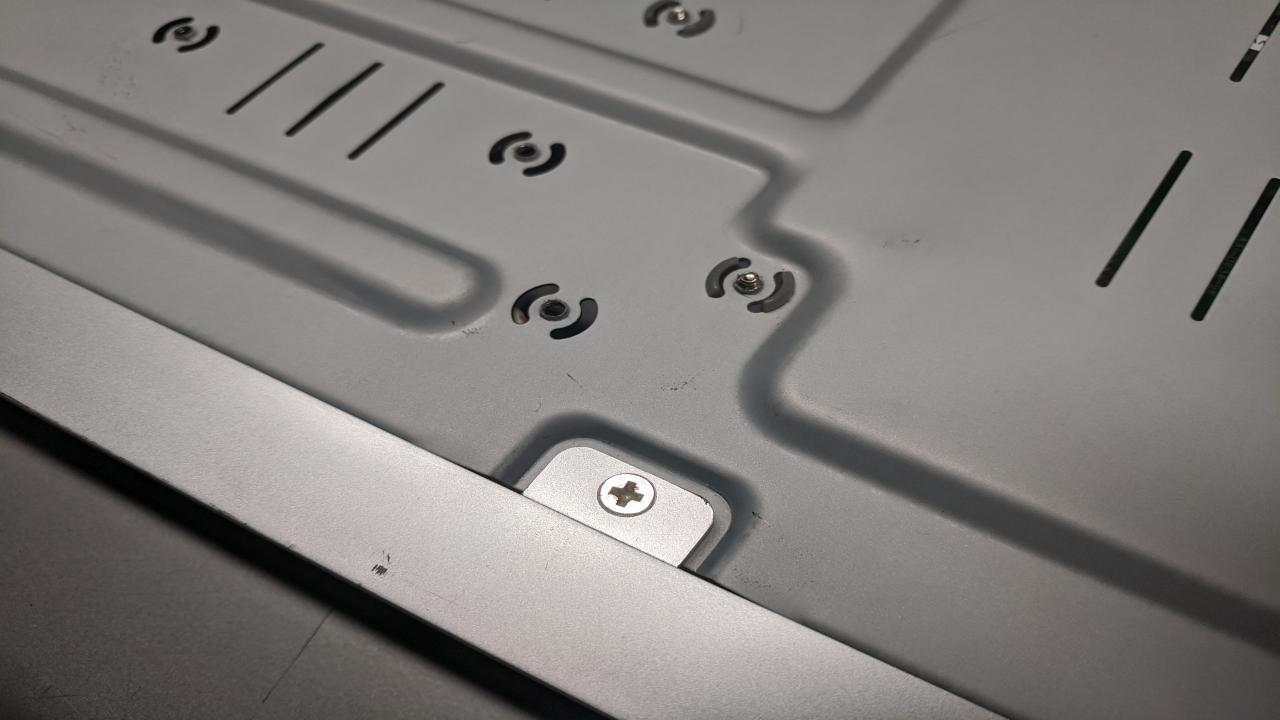CRS: (598, 470, 655, 517)
